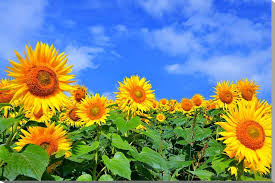flower: (10, 58, 270, 174)
sky: (36, 5, 275, 85)
